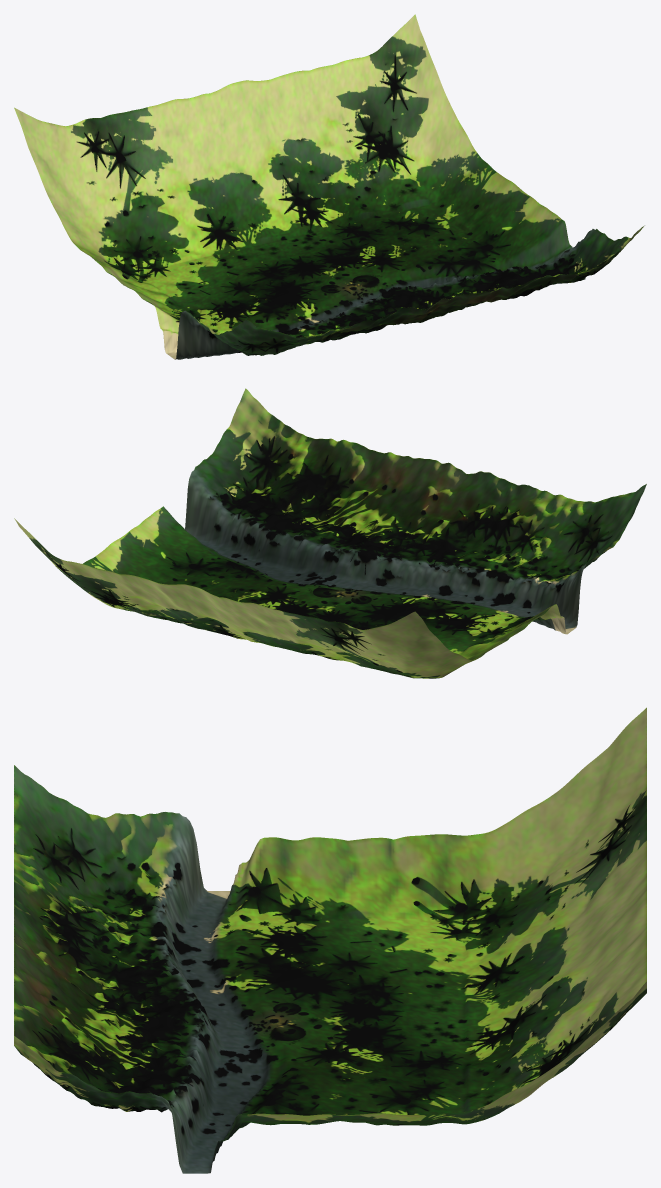
File: antes_terreno.glb
The picture shows the model from 3 angles, top to bottom: view 1: azimuth 30°, elevation 25°; view 2: azimuth 150°, elevation 25°; view 3: azimuth 270°, elevation 25°; orthographic projection. The views are drawn at different scales.
Visible parts, largest first — view 1: Terreno; view 2: Terreno; view 3: Terreno.
Boxes of the visible parts, x1,y1,x2,y2 form: Terreno: [14, 14, 644, 359]; Terreno: [14, 388, 646, 678]; Terreno: [14, 707, 646, 1173].
Bounding box in the file's own units: 90 × 31.18 × 90.
1 material, 1 textured.
